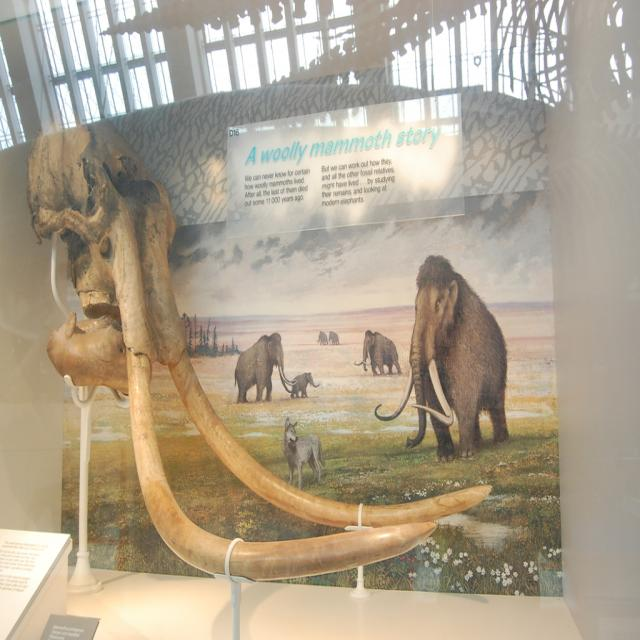elephant: (386, 258, 519, 467)
